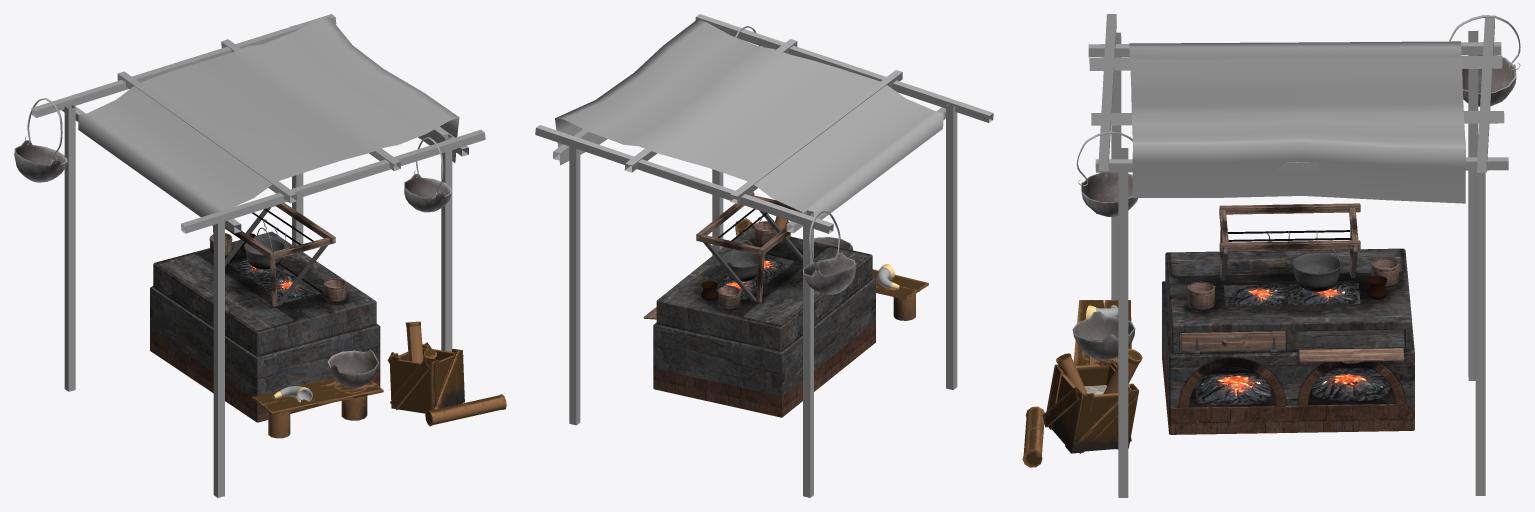
The model's file is stove tent.fbx.
3 renders of one model, left to right at view 1: azimuth 30°, elevation 25°; view 2: azimuth 150°, elevation 25°; view 3: azimuth 270°, elevation 25°, orthographic. The views are drawn at different scales.
Visible parts, largest first — view 1: polySurface67, polySurface69, polySurface76, polySurface63, polySurface64; view 2: polySurface67, polySurface69, polySurface76, polySurface64, polySurface63; view 3: polySurface67, polySurface69, polySurface76, polySurface63, polySurface64, polySurface68, polySurface65.
Boxes of the visible parts, x1,y1,x2,y2 form: polySurface67: (31, 14, 485, 497); polySurface69: (150, 203, 380, 422); polySurface76: (14, 98, 506, 438); polySurface63: (441, 134, 452, 351); polySurface64: (292, 173, 303, 246); polySurface67: (535, 14, 993, 497); polySurface69: (643, 192, 875, 417); polySurface76: (735, 26, 928, 320); polySurface64: (569, 146, 580, 425); polySurface63: (712, 169, 723, 255); polySurface67: (1088, 14, 1504, 380); polySurface69: (1162, 208, 1414, 434); polySurface76: (1022, 15, 1520, 467); polySurface63: (1118, 148, 1128, 497); polySurface64: (1475, 146, 1485, 495); polySurface68: (1219, 203, 1360, 214); polySurface65: (1095, 157, 1508, 172).
Size of what is drawn, in the model's own units: 4.01 by 3.8 by 4.48.
Materials: 3 (2 with a texture image).
